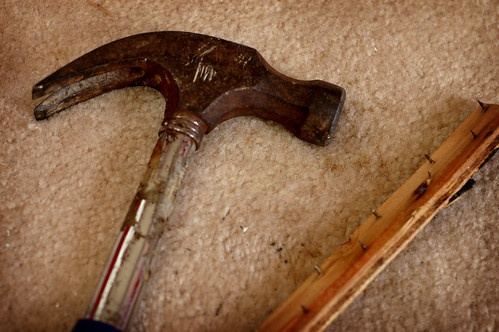hammer: (30, 29, 346, 332)
